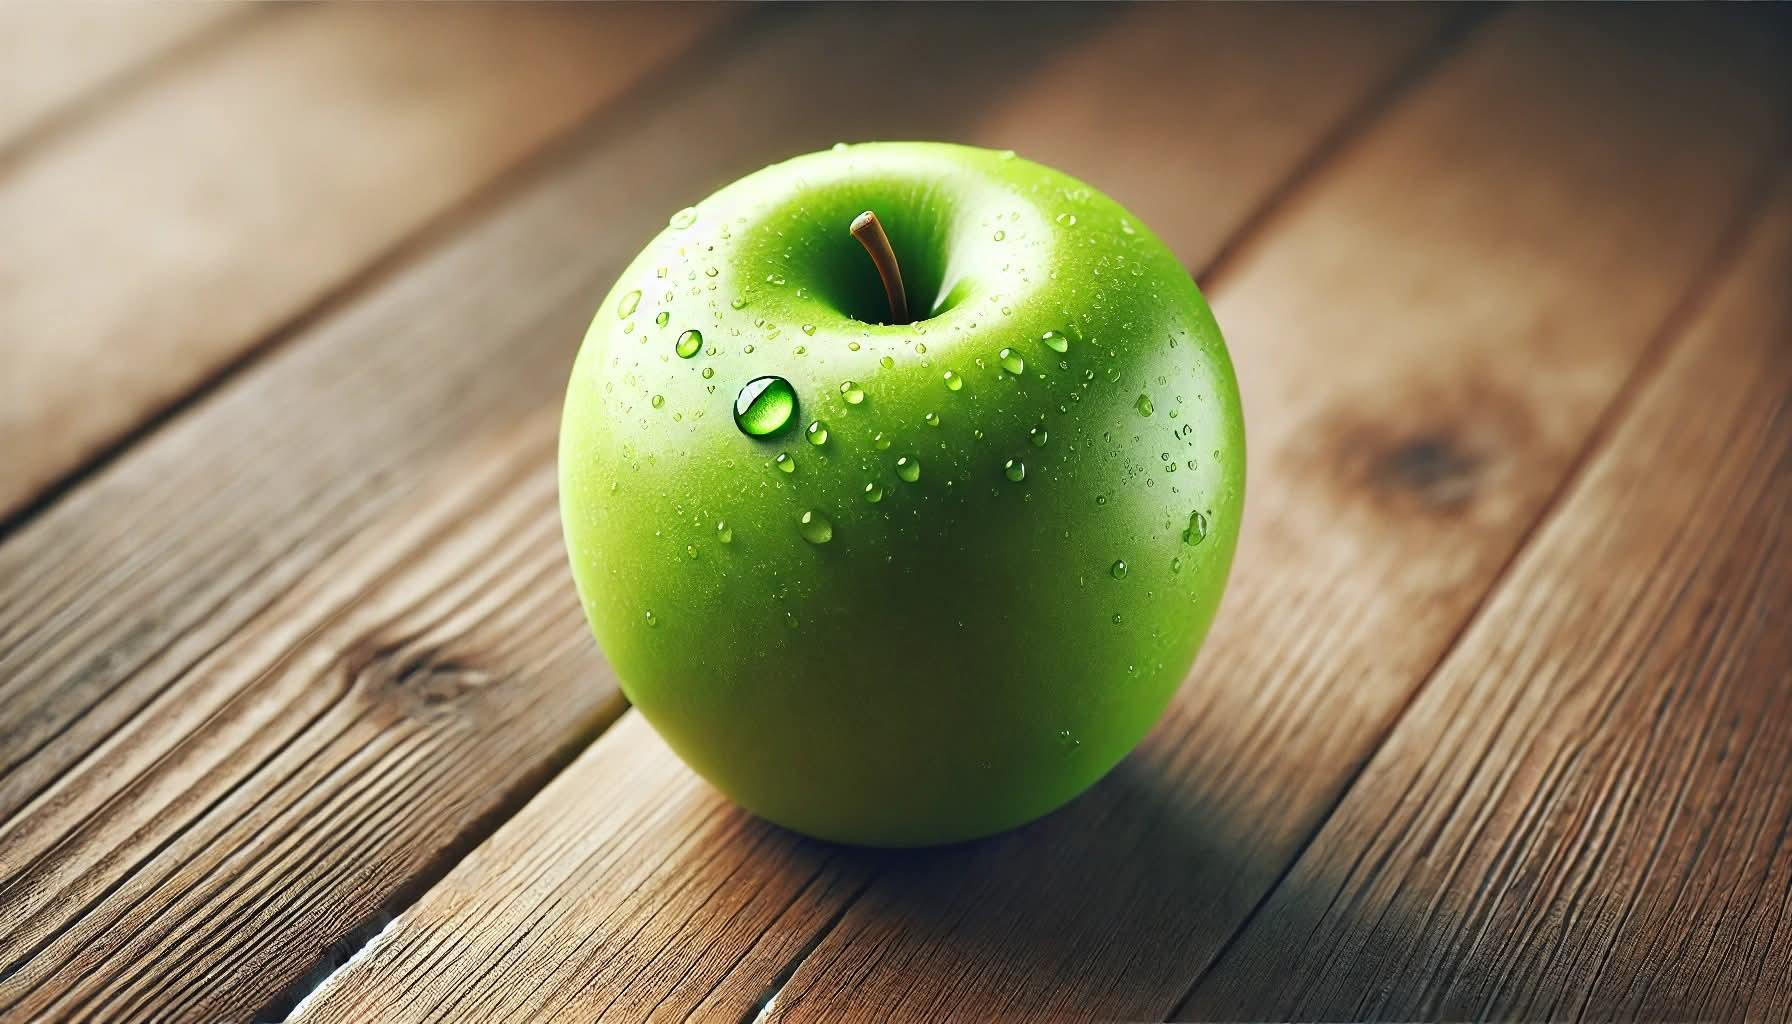non-mango: (560, 124, 1263, 848)
